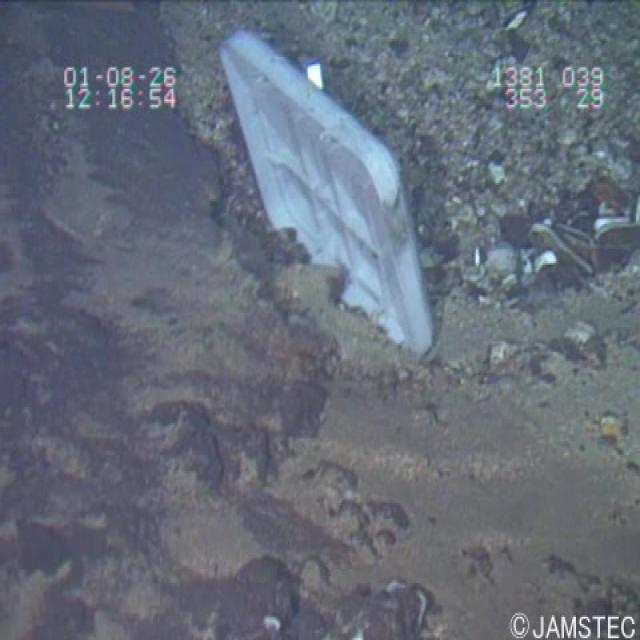plastic: (208, 14, 457, 388)
